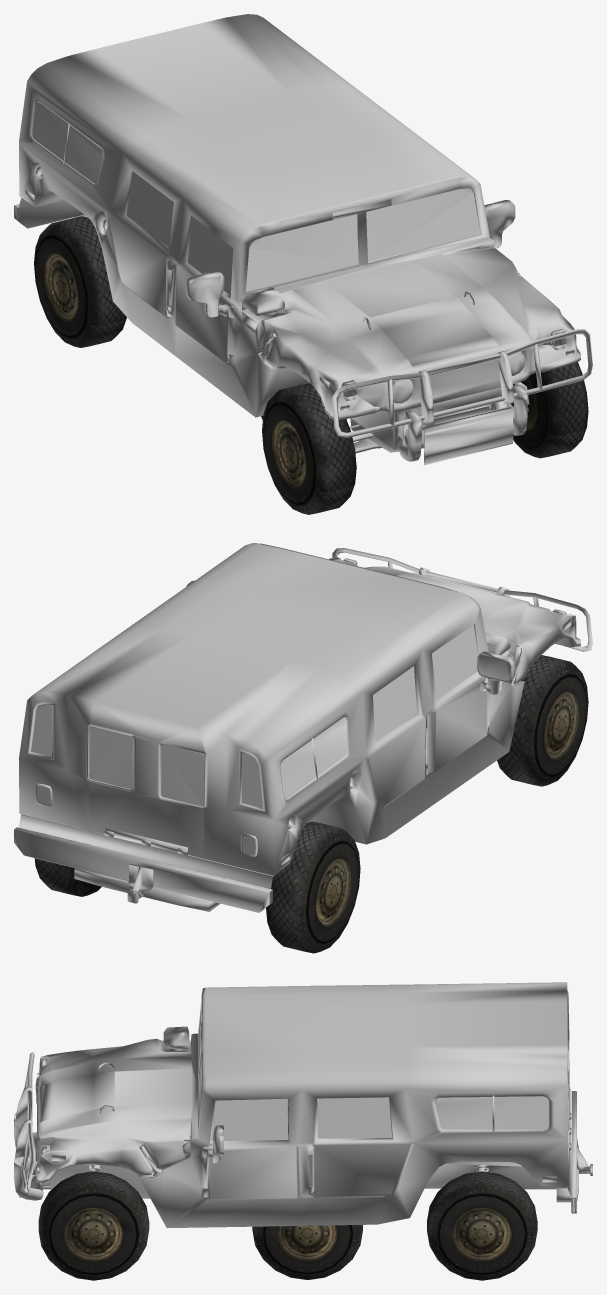
The model's file is Hummer.fbx.
3 renders of one model, top to bottom at view 1: azimuth 30°, elevation 25°; view 2: azimuth 150°, elevation 25°; view 3: azimuth 270°, elevation 25°, orthographic. The views are drawn at different scales.
Visible parts, largest first — view 1: Body, Tire, object_2; view 2: Body, Tire, object_2; view 3: Body, Tire, object_2, IndividualTire.
Boxes of the visible parts, x1,y1,x2,y2 form: Body: (14,14,592,465); Tire: (34,216,588,514); object_2: (32,102,480,295); Body: (14,543,592,912); Tire: (34,655,588,953); object_2: (31,625,478,808); Body: (14,982,592,1228); Tire: (38,1171,537,1280); object_2: (199,1014,549,1141); IndividualTire: (252,1225,362,1279).
Bounding box in the file's own units: 272 × 237 × 492.
